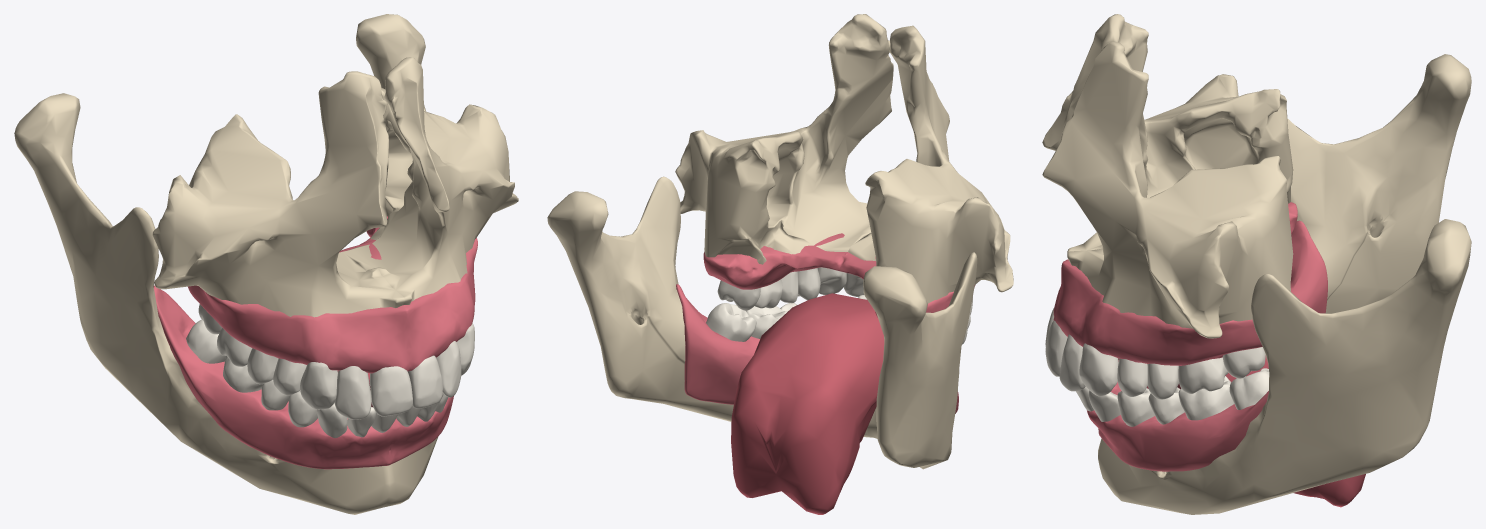
File: jaw.glb
3 views of the same model, side by side, from view 1: azimuth 30°, elevation 25°; view 2: azimuth 150°, elevation 25°; view 3: azimuth 270°, elevation 25° (orthographic). The views are drawn at different scales.
Parts seen in each view (by area): view 1: bone_maxilla_R, bone_mandible, bone_maxilla_L, gum_upper, gum_lower, tooth_11, tooth_12, tooth_13, tooth_21, tooth_47, tooth_22, tooth_14 (+7 smaller); view 2: bone_mandible, bone_maxilla_L, tongue, bone_maxilla_R, gum_lower, gum_upper, tooth_37, tooth_27, tooth_36, tooth_23, tooth_24, tooth_26; view 3: bone_mandible, bone_maxilla_L, bone_maxilla_R, gum_lower, gum_upper, tooth_23, tooth_36, tooth_26, tongue, tooth_37, tooth_22, tooth_24 (+6 smaller).
Part boxes in pixels (x1,y1,x2,y2): bone_maxilla_R: [152, 71, 404, 317]; bone_mandible: [14, 14, 437, 514]; bone_maxilla_L: [342, 57, 518, 305]; gum_upper: [188, 216, 477, 373]; gum_lower: [153, 285, 453, 469]; tooth_11: [369, 366, 412, 416]; tooth_12: [334, 366, 371, 419]; tooth_13: [300, 362, 337, 409]; tooth_21: [408, 355, 442, 408]; tooth_47: [186, 319, 225, 363]; tooth_22: [436, 341, 461, 397]; tooth_14: [273, 358, 306, 395]; bone_mandible: [547, 176, 977, 469]; bone_maxilla_L: [675, 14, 893, 264]; tongue: [731, 293, 884, 514]; bone_maxilla_R: [848, 25, 1013, 303]; gum_lower: [676, 284, 958, 413]; gum_upper: [703, 233, 975, 317]; tooth_37: [706, 303, 756, 341]; tooth_27: [717, 280, 760, 310]; tooth_36: [746, 306, 787, 338]; tooth_23: [817, 267, 846, 295]; tooth_24: [797, 268, 820, 300]; tooth_26: [754, 279, 782, 308]; bone_mandible: [1098, 54, 1471, 514]; bone_maxilla_L: [1042, 41, 1293, 338]; bone_maxilla_R: [1042, 14, 1293, 252]; gum_lower: [1087, 220, 1327, 471]; gum_upper: [1053, 202, 1297, 365]; tooth_23: [1079, 343, 1118, 396]; tooth_36: [1178, 376, 1234, 420]; tooth_26: [1178, 357, 1228, 393]; tongue: [1118, 355, 1365, 507]; tooth_37: [1229, 368, 1269, 409]; tooth_22: [1059, 334, 1085, 391]; tooth_24: [1117, 358, 1147, 396].
Size of the model in its own units: 10.33 by 10.89 by 9.21.
